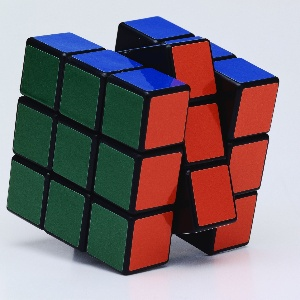cube: (6, 16, 279, 276)
